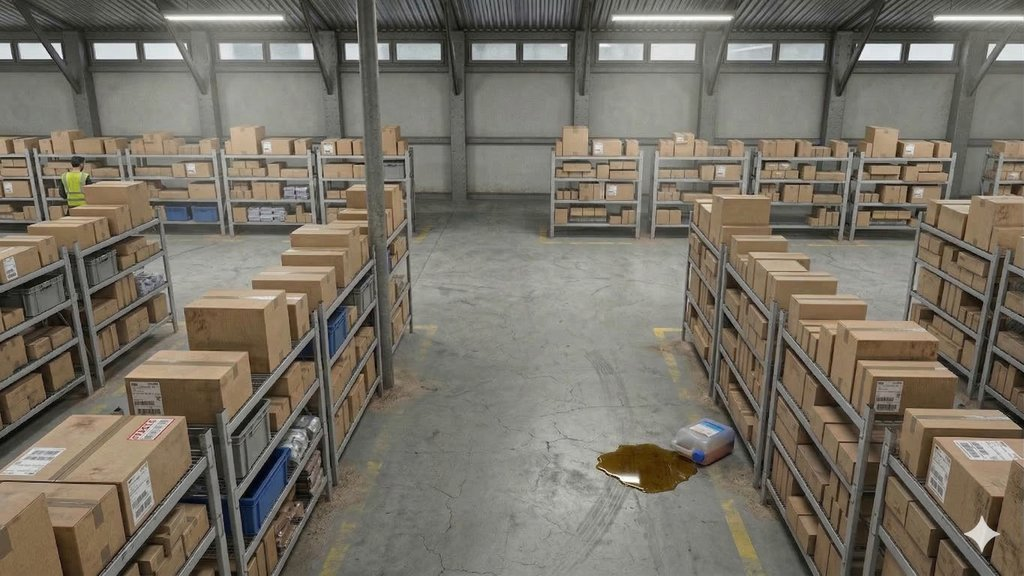person: (60, 144, 91, 215)
safety_vest: (60, 169, 91, 207)
spill: (594, 373, 743, 501)
